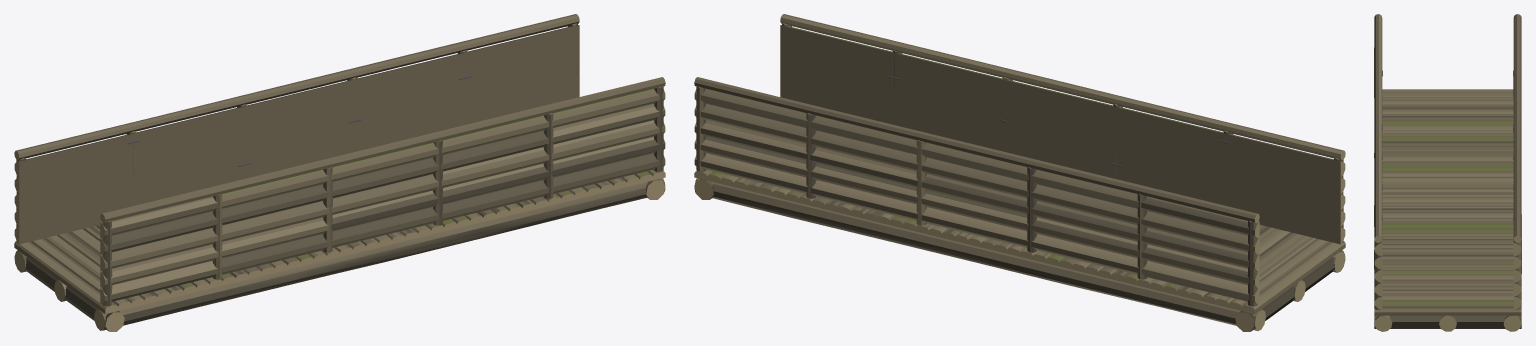
The model's file is footbridge.glb.
The picture shows the model from 3 angles, left to right: view 1: azimuth 30°, elevation 25°; view 2: azimuth 150°, elevation 25°; view 3: azimuth 270°, elevation 25°; orthographic projection. The views are drawn at different scales.
Parts seen in each view (by area): view 1: Bridge; view 2: Bridge; view 3: Bridge.
Part boxes in pixels (x1,y1,x2,y2): Bridge: (14, 14, 665, 331); Bridge: (694, 14, 1345, 331); Bridge: (1374, 14, 1521, 331).
Bounding box in the file's own units: 6.4 × 1.3 × 1.8.
